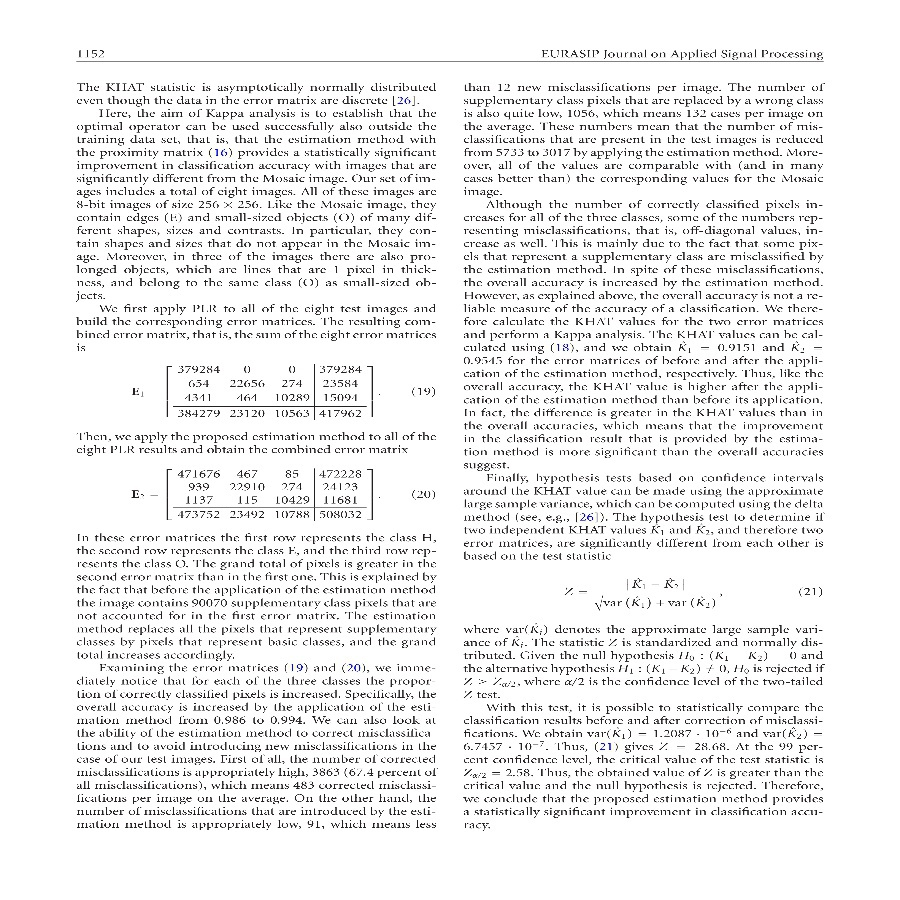eq: (128, 362, 375, 419), (130, 467, 376, 523), (563, 573, 716, 614)
